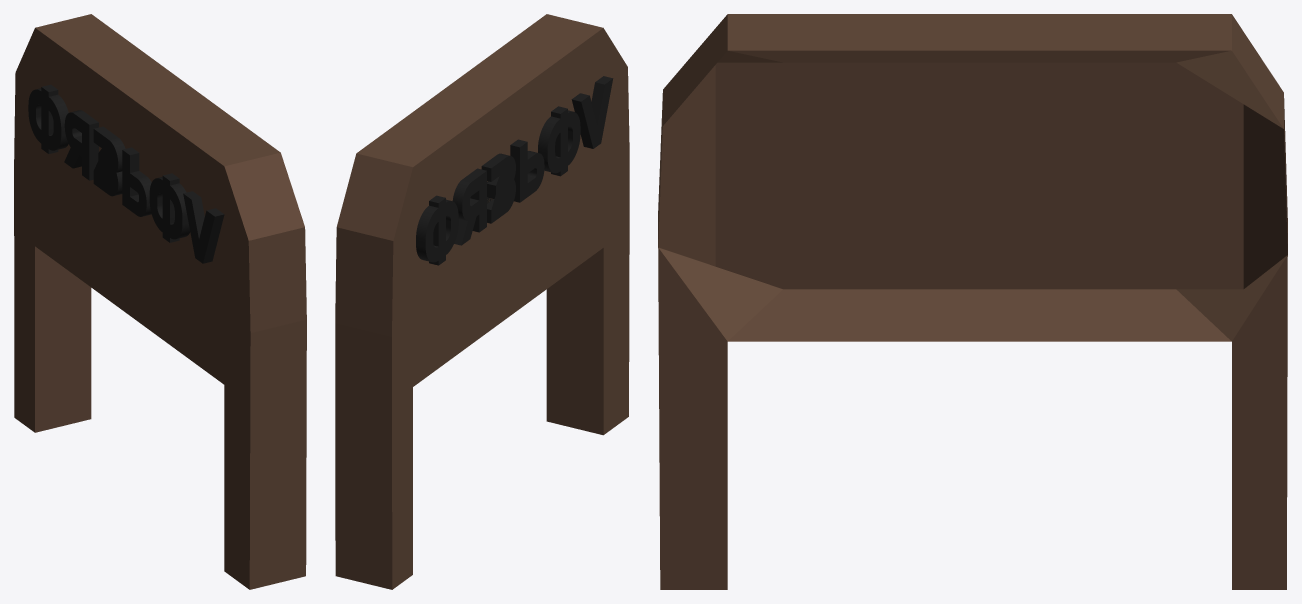
File: SM_OrebovSign.fbx
3 renders of one model, left to right at view 1: azimuth 30°, elevation 25°; view 2: azimuth 150°, elevation 25°; view 3: azimuth 270°, elevation 25°, orthographic. The views are drawn at different scales.
Visible parts, largest first — view 1: SM_OrebovSign; view 2: SM_OrebovSign; view 3: SM_OrebovSign.
Boxes of the visible parts, x1=… form: SM_OrebovSign: x1=14, y1=14, x2=306, y2=589; SM_OrebovSign: x1=335, y1=14, x2=629, y2=589; SM_OrebovSign: x1=658, y1=14, x2=1287, y2=589.
Bounding box in the file's own units: 1.17 × 6.86 × 7.26.
